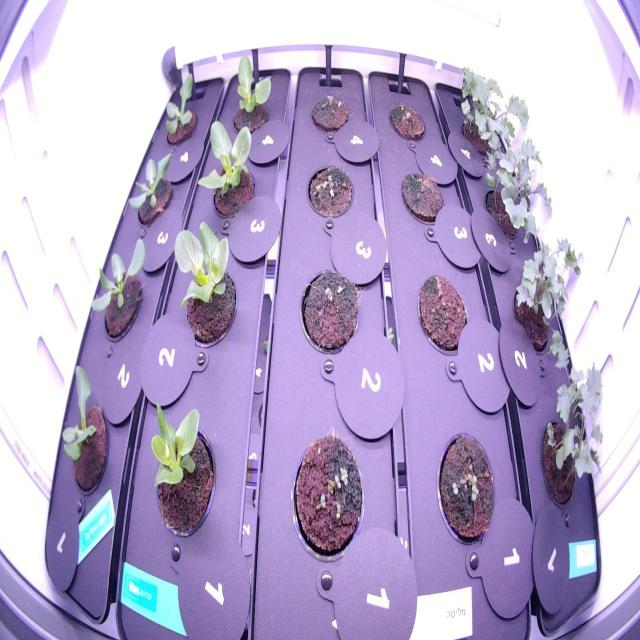germination: (287, 422, 368, 571), (429, 421, 504, 555), (294, 258, 364, 364), (411, 267, 472, 364), (394, 158, 452, 233), (300, 158, 356, 229), (384, 94, 429, 149), (306, 88, 352, 140)
young: (162, 211, 250, 365), (140, 391, 222, 549), (55, 353, 122, 507), (190, 116, 271, 240), (80, 226, 153, 362), (225, 46, 278, 154), (125, 143, 180, 236), (155, 54, 203, 153)
